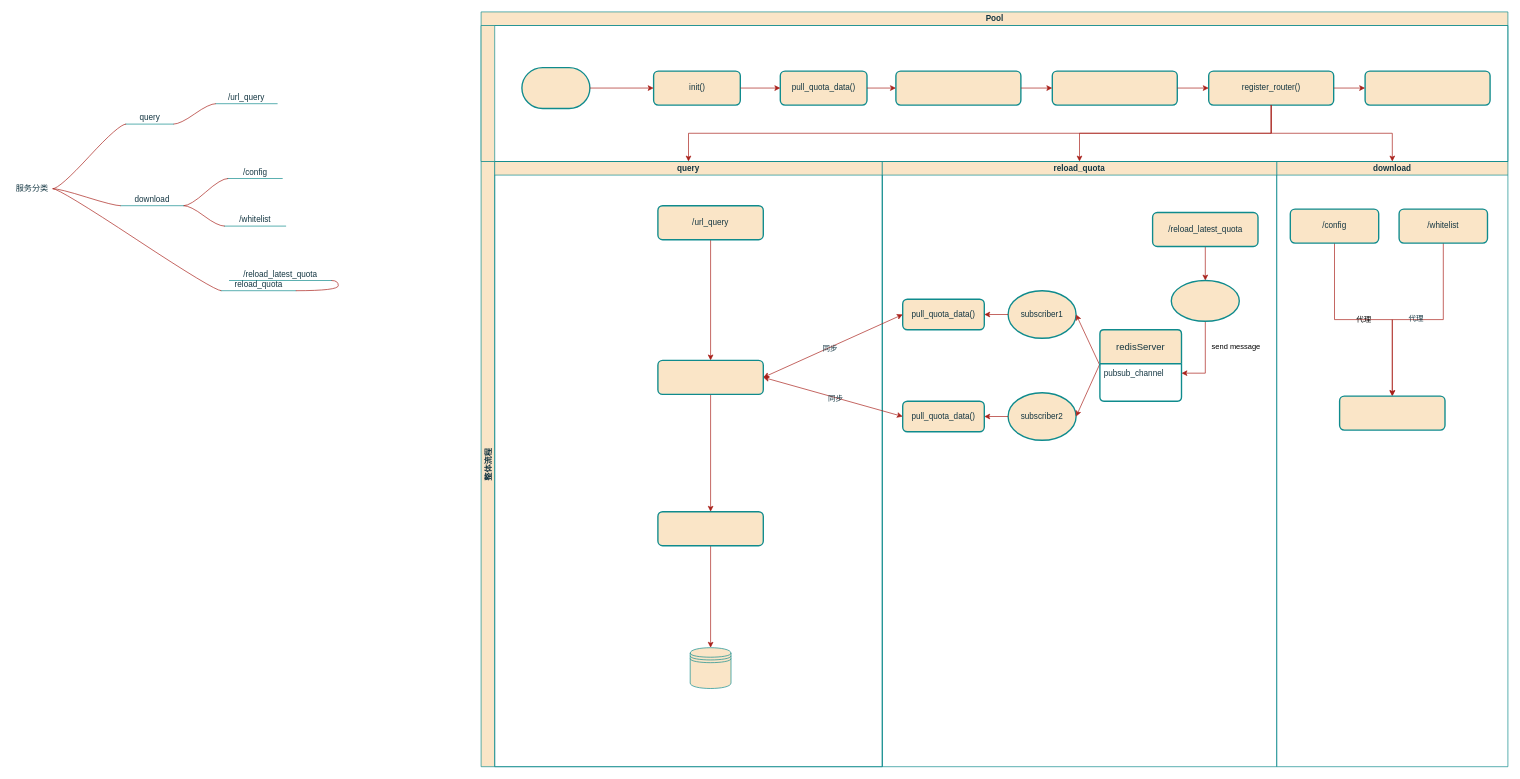
This 1520x779 diagram has some shape labels left out. Each missing label, with the centre of its shape:
download_server: the point at 1392,412
publisher: the point at 1205,300
pull_domain_white_list_data(): the point at 958,87
query DB: the point at 710,528
Redis: the point at 710,667
register_timer_task(): the point at 1114,87
server_run(): the point at 1427,87
start: the point at 555,88
鉴权: the point at 710,377
